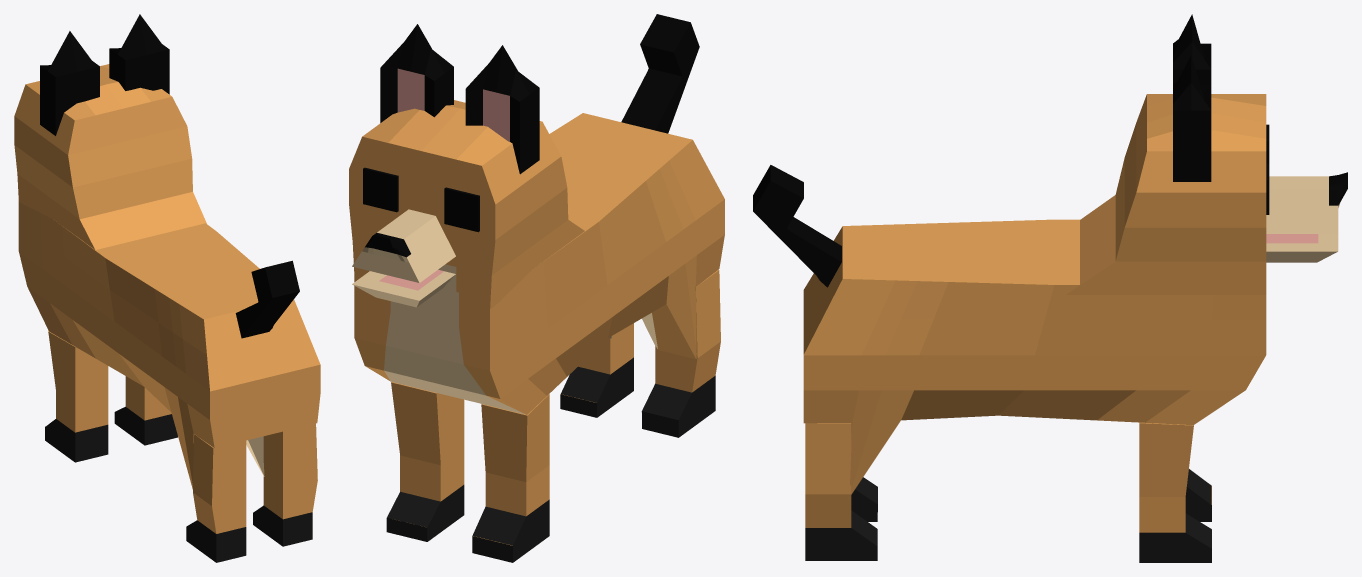
Rendered from newdog.fbx.
3 views of the same model, side by side, from view 1: azimuth 30°, elevation 25°; view 2: azimuth 150°, elevation 25°; view 3: azimuth 270°, elevation 25° (orthographic). The views are drawn at different scales.
Visible parts, largest first — view 1: 立方体, 立方体.001, 立方体.005, 立方体.002, 立方体.004, 立方体.006, 立方体.007, 立方体.008, 立方体.003; view 2: 立方体, 立方体.001, 立方体.002, 立方体.003, 立方体.005, 立方体.009, 立方体.006, 立方体.008, 立方体.007, 立方体.004, 立方体.010, 立方体.011; view 3: 立方体, 立方体.001, 立方体.003, 立方体.004, 立方体.009, 立方体.008, 立方体.007, 立方体.006, 立方体.002, 立方体.005.
Part boxes in pixels (x1=…): 立方体: x1=18, y1=202, x2=320, y2=489; 立方体.001: x1=14, y1=64, x2=206, y2=249; 立方体.005: x1=186, y1=434, x2=246, y2=562; 立方体.002: x1=45, y1=331, x2=108, y2=462; 立方体.004: x1=253, y1=423, x2=317, y2=546; 立方体.006: x1=40, y1=31, x2=99, y2=135; 立方体.007: x1=109, y1=14, x2=169, y2=94; 立方体.008: x1=235, y1=260, x2=299, y2=338; 立方体.003: x1=114, y1=376, x2=177, y2=445; 立方体: x1=354, y1=113, x2=724, y2=414; 立方体.001: x1=349, y1=100, x2=584, y2=309; 立方体.002: x1=472, y1=394, x2=549, y2=562; 立方体.003: x1=386, y1=382, x2=464, y2=541; 立方体.005: x1=641, y1=269, x2=720, y2=437; 立方体.009: x1=352, y1=209, x2=455, y2=307; 立方体.006: x1=465, y1=45, x2=539, y2=174; 立方体.008: x1=621, y1=14, x2=699, y2=133; 立方体.007: x1=380, y1=24, x2=453, y2=122; 立方体.004: x1=560, y1=323, x2=633, y2=417; 立方体.010: x1=363, y1=167, x2=398, y2=212; 立方体.011: x1=444, y1=187, x2=479, y2=232; 立方体: x1=803, y1=219, x2=1266, y2=498; 立方体.001: x1=1066, y1=94, x2=1266, y2=294; 立方体.003: x1=1139, y1=422, x2=1211, y2=562; 立方体.004: x1=805, y1=423, x2=877, y2=560; 立方体.009: x1=1266, y1=172, x2=1347, y2=262; 立方体.008: x1=753, y1=165, x2=841, y2=287; 立方体.007: x1=1173, y1=55, x2=1211, y2=181; 立方体.006: x1=1173, y1=14, x2=1211, y2=84; 立方体.002: x1=1185, y1=469, x2=1211, y2=521; 立方体.005: x1=851, y1=477, x2=877, y2=521.
Bounding box in the file's own units: 216 × 713 × 771.
